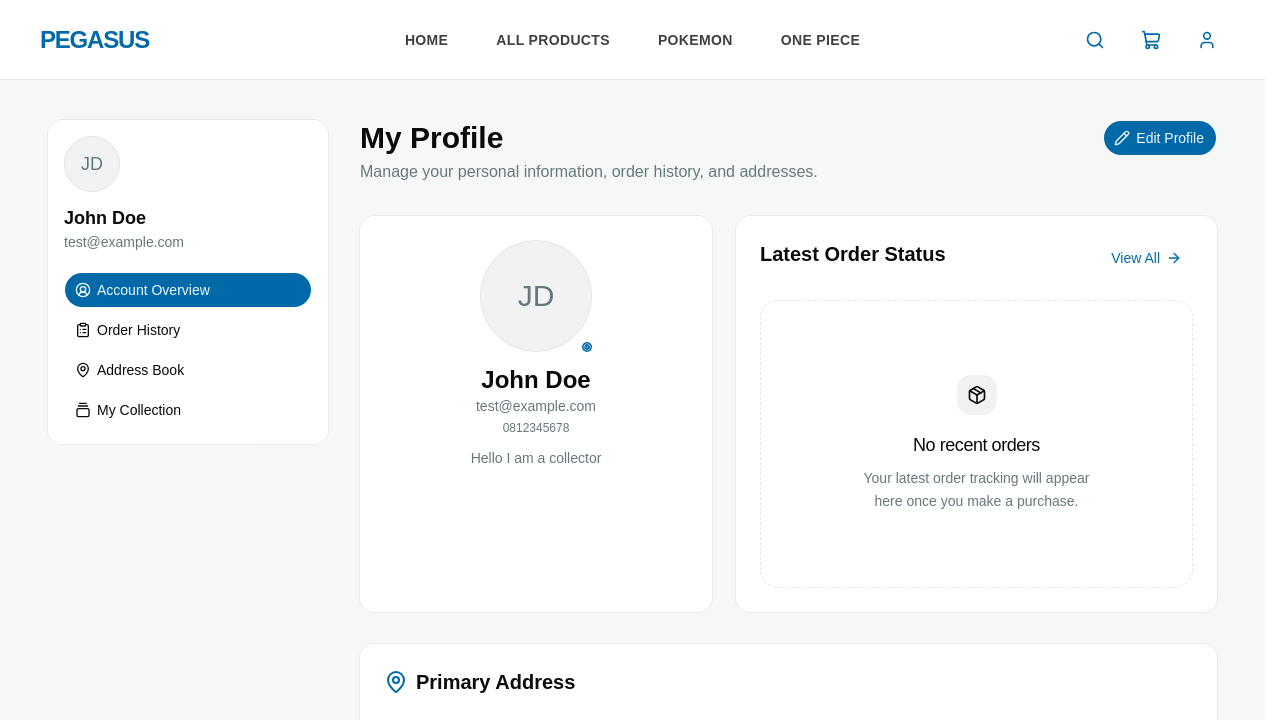
Test: Account & Profile Flow › allows user to save profile changes
Click the button "Edit Profile" at [1160, 138], box x1=1103 y1=120 x2=1217 y2=156
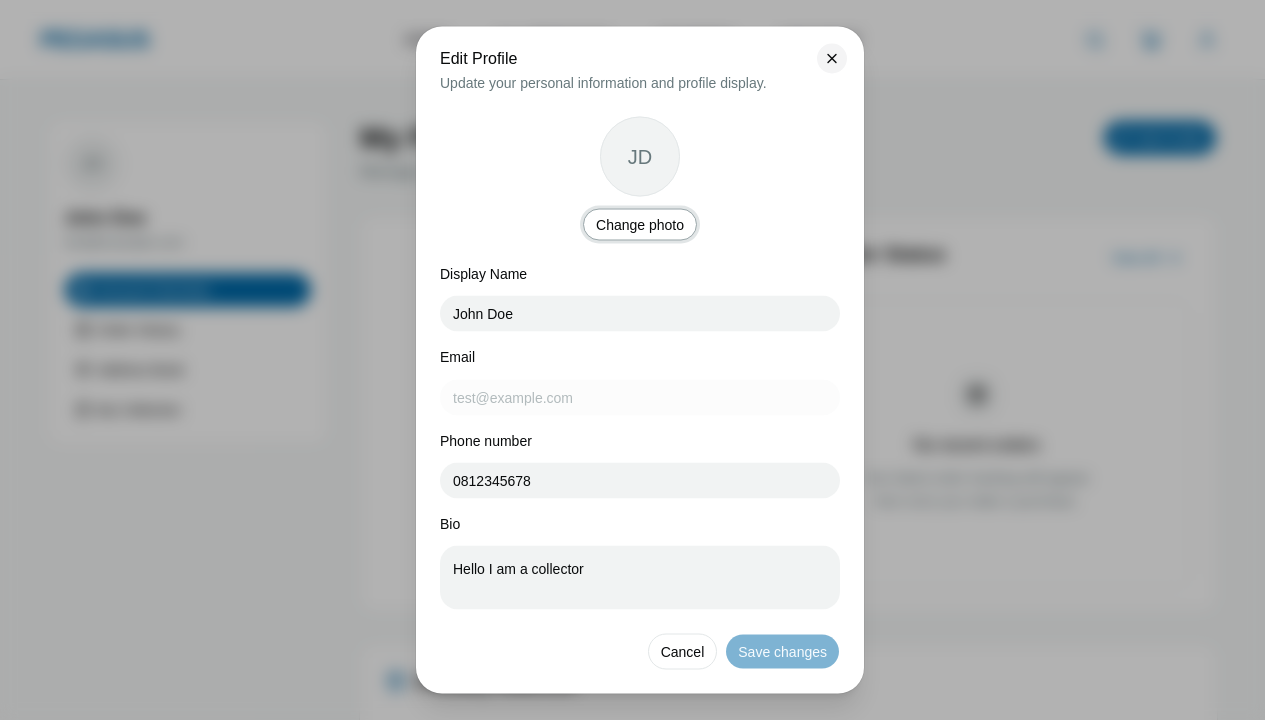
Expected: the dialog is shown, x1=416 y1=27 x2=864 y2=694
Expected: the field named "displayName" is enabled
Edit display name
Replace the text in the field named "displayName" with "Jane Doe" at [640, 314], box x1=440 y1=296 x2=840 y2=332
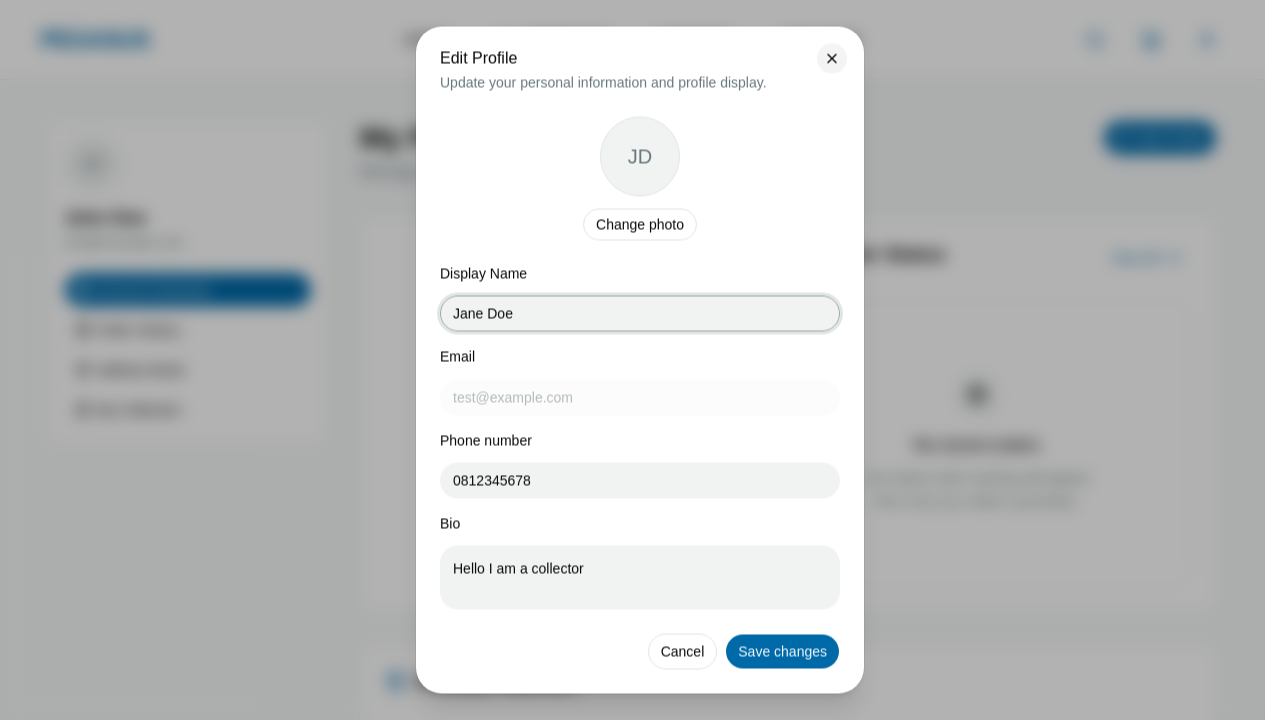
Save changes
Click the button "Save changes" at [783, 652], box x1=725 y1=634 x2=840 y2=670
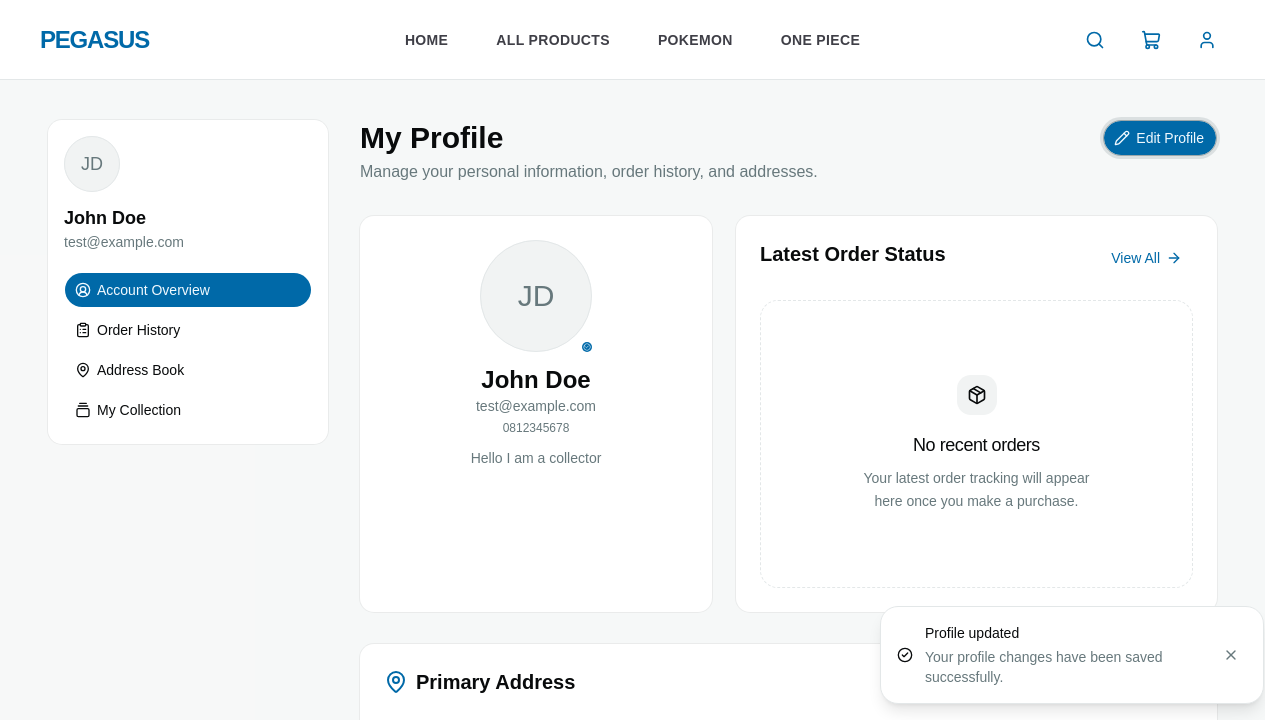
Expected: the heading "Profile updated" is shown, x1=925 y1=625 x2=1019 y2=641
